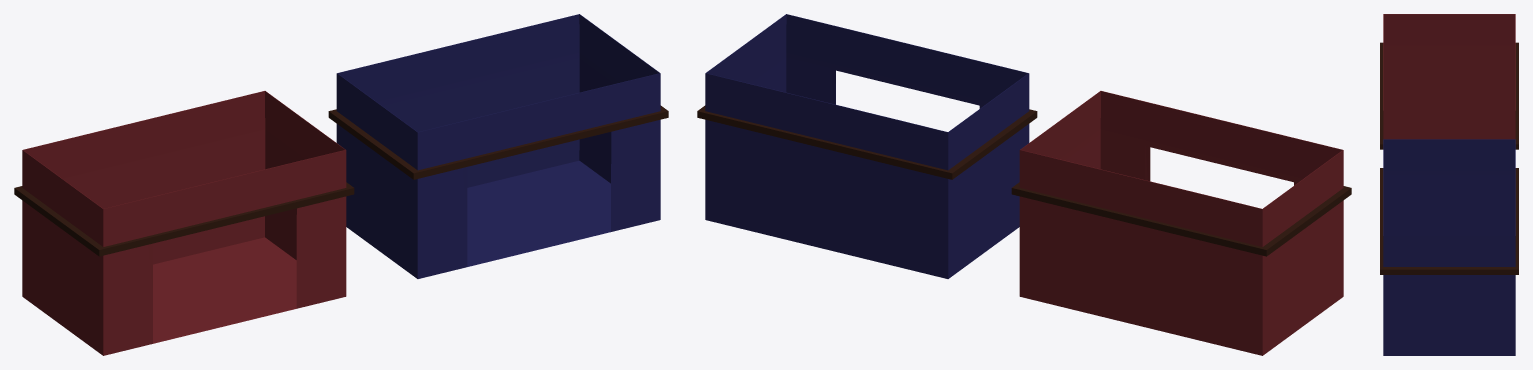
3 renders of one model, left to right at view 1: azimuth 30°, elevation 25°; view 2: azimuth 150°, elevation 25°; view 3: azimuth 270°, elevation 25°, orthographic. The views are drawn at different scales.
Parts seen in each view (by area): view 1: Red, Blue; view 2: Red, Blue; view 3: Blue, Red.
Boxes of the visible parts, x1,y1,x2,y2 form: Red: (14, 91, 354, 355); Blue: (328, 14, 668, 278); Red: (1011, 91, 1351, 355); Blue: (697, 14, 1037, 278); Blue: (1380, 139, 1518, 355); Red: (1380, 14, 1518, 149).
Bounding box in the file's own units: 3330 × 820 × 861.
